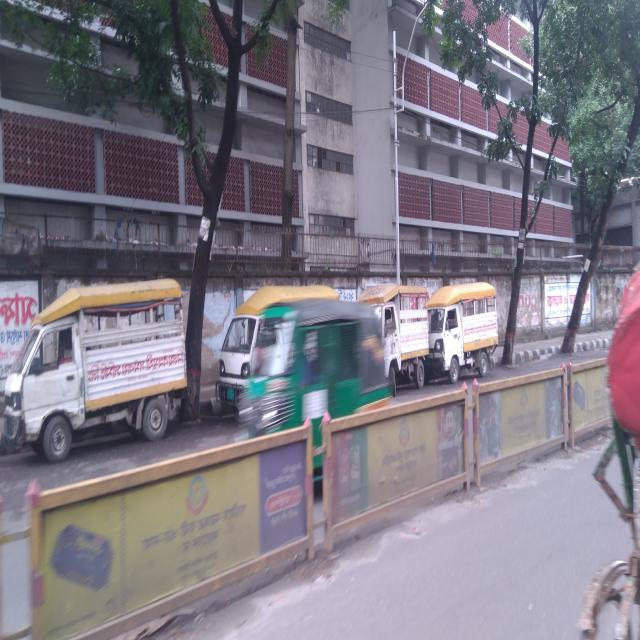CNG: (227, 292, 411, 483)
Leguna: (1, 266, 205, 480), (204, 278, 355, 425), (331, 272, 438, 399), (398, 277, 509, 395)
